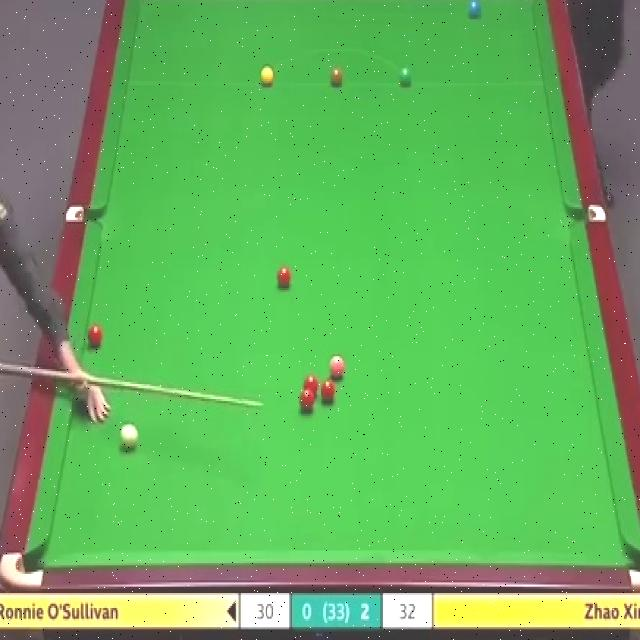blue-ball: (466, 0, 482, 19)
brown-ball: (329, 67, 344, 89)
green-ball: (398, 66, 413, 89)
pink-ball: (326, 355, 345, 381)
red-ball: (298, 389, 316, 414), (276, 264, 293, 290), (318, 378, 336, 402), (86, 323, 102, 349), (302, 374, 319, 397)
white-ball: (120, 423, 138, 453)
yellow-ball: (260, 65, 275, 88)
